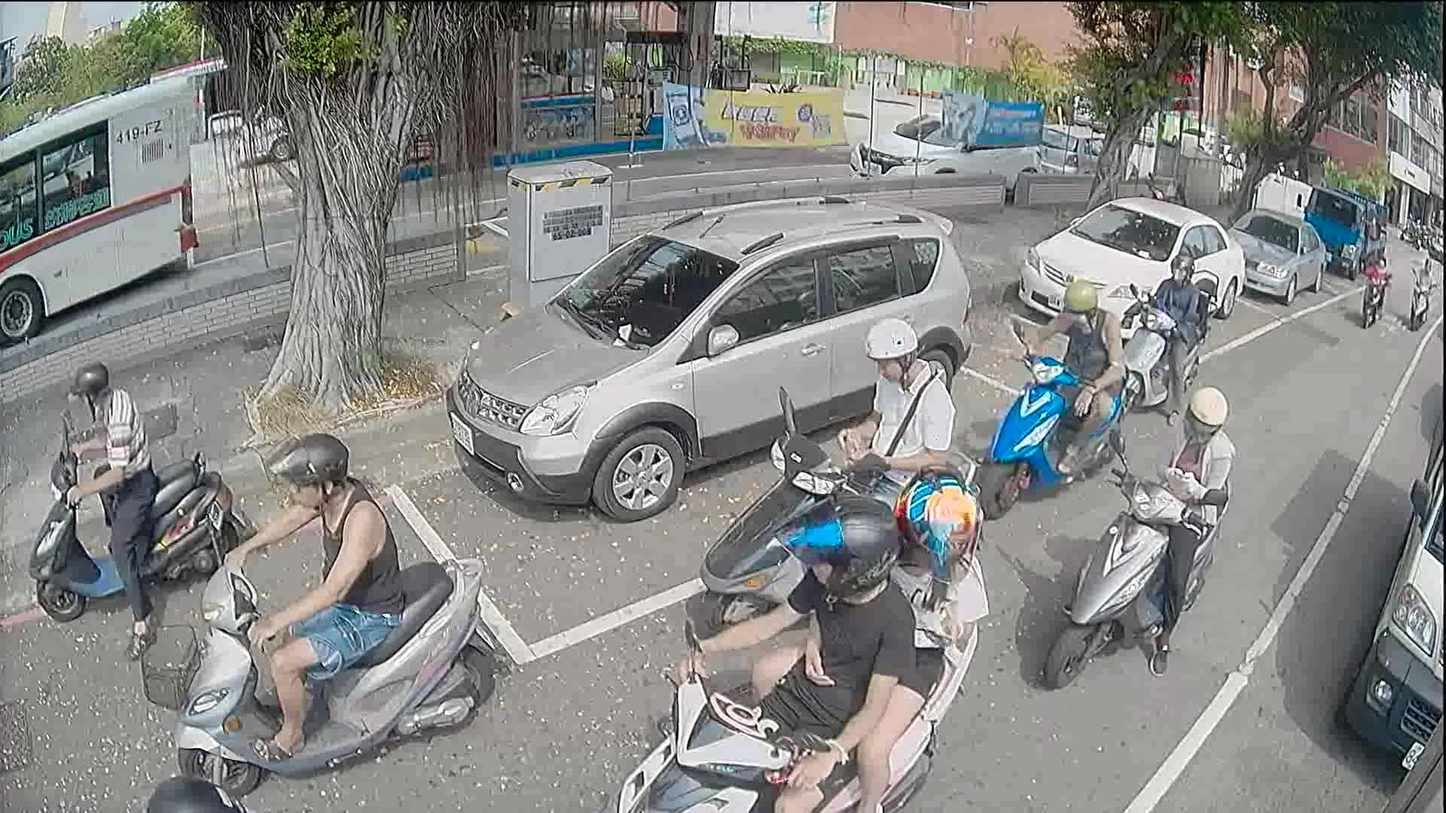person: (644, 483, 920, 812), (746, 465, 982, 806), (214, 423, 403, 769), (47, 355, 171, 654), (1130, 376, 1228, 676), (834, 312, 954, 522), (1022, 263, 1118, 474), (1141, 262, 1218, 415), (148, 757, 244, 811), (1362, 255, 1389, 288), (1415, 260, 1432, 291)
